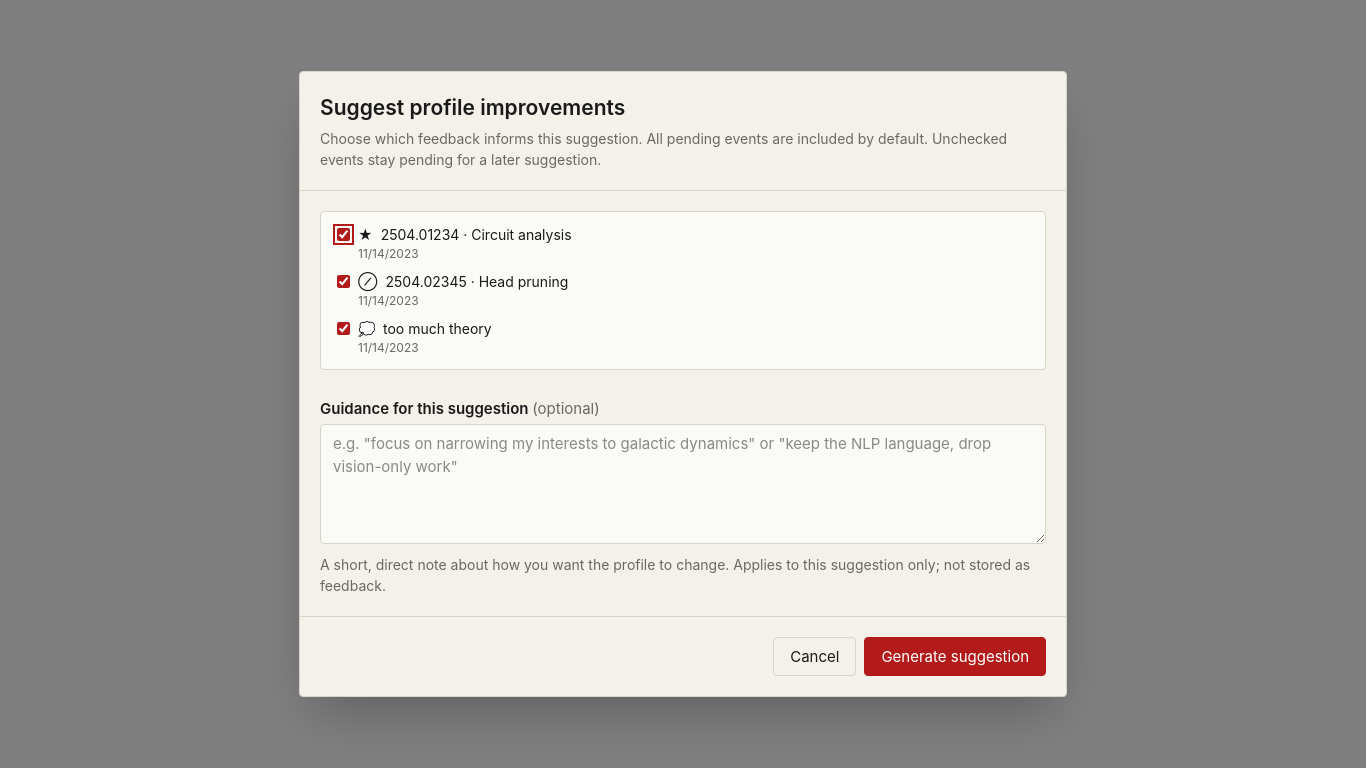
it: SuggestDialog — selection state › disables Generate when all items are unchecked
Click the checkbox labelled "★ 2504.01234 · Circuit analysis 11/14/2023" at {"x": 344, "y": 234}, box [337,228,350,240]
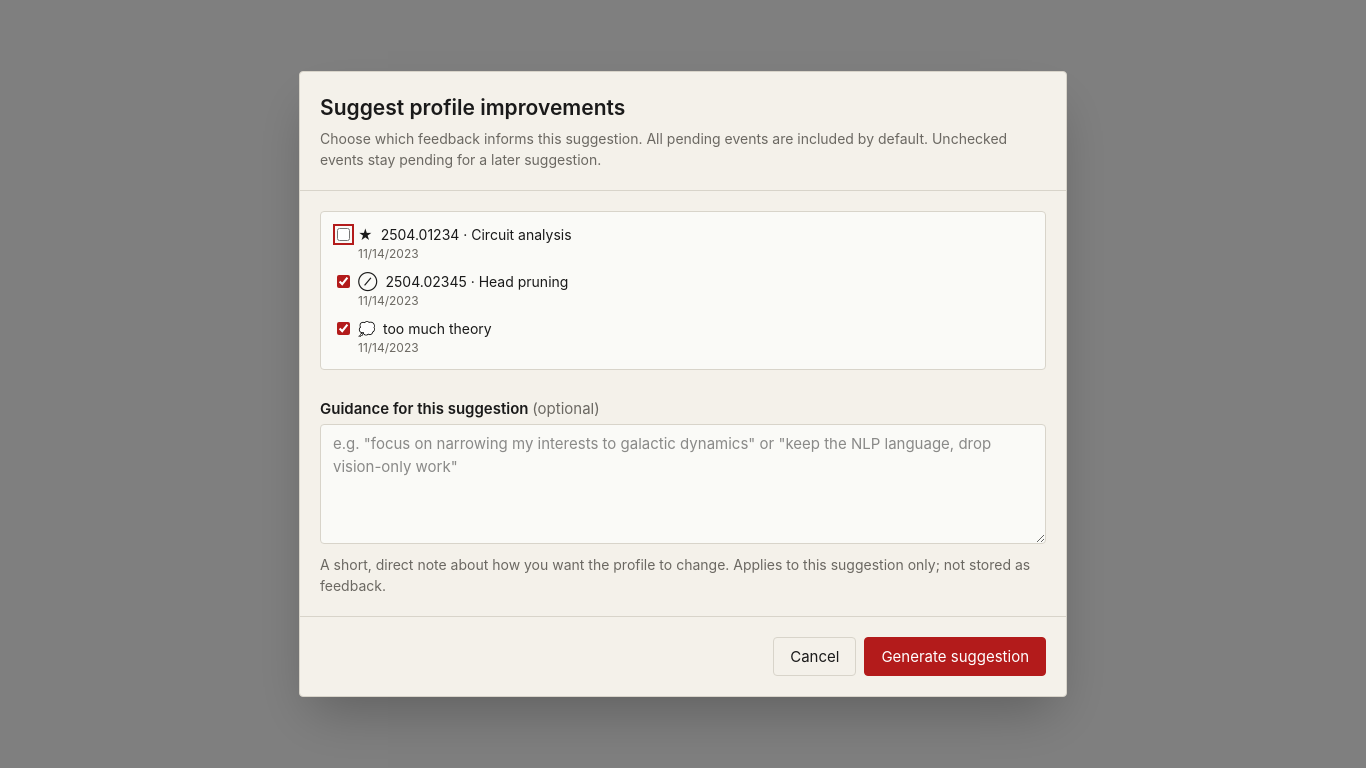
Click the checkbox labelled "⊘ 2504.02345 · Head pruning 11/14/2023" at {"x": 344, "y": 281}, box [337,274,350,288]
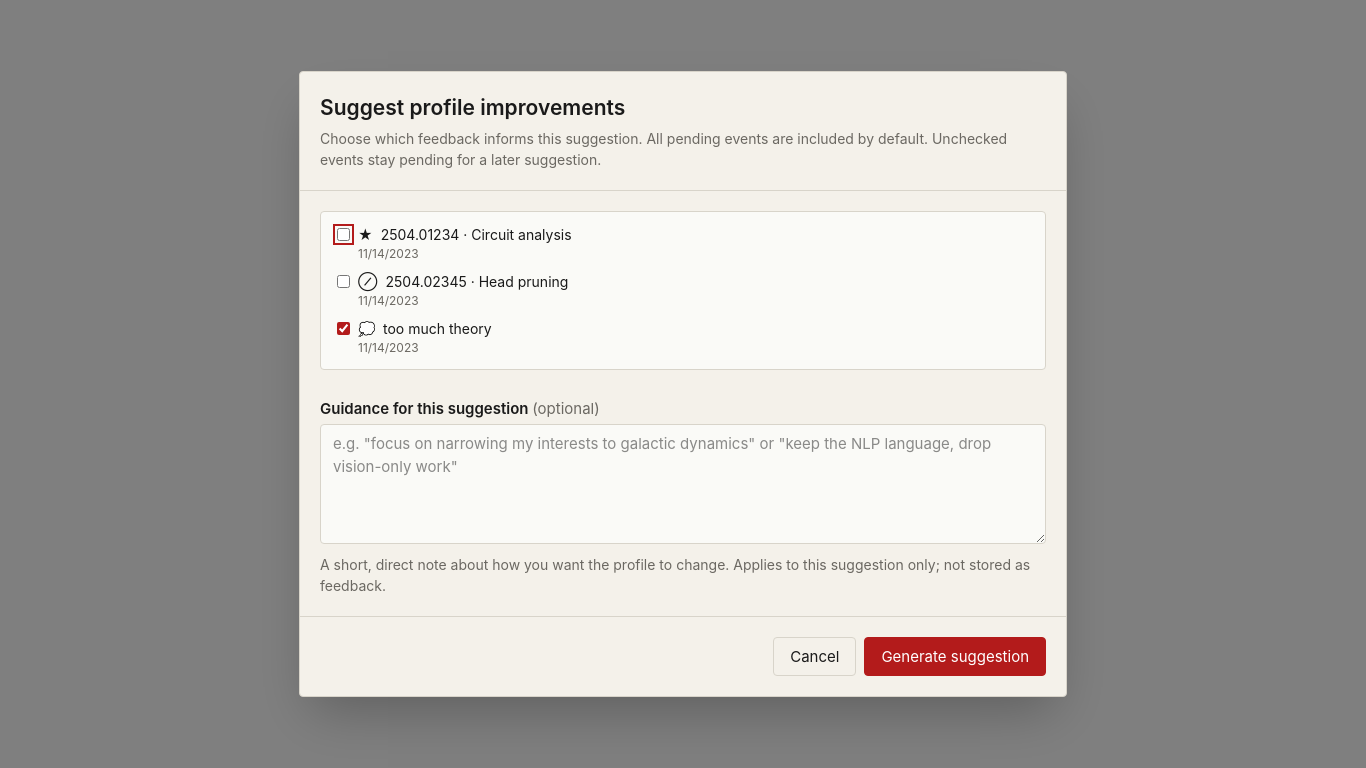
Click the checkbox labelled "💭 too much theory 11/14/2023" at {"x": 344, "y": 328}, box [337,322,350,334]
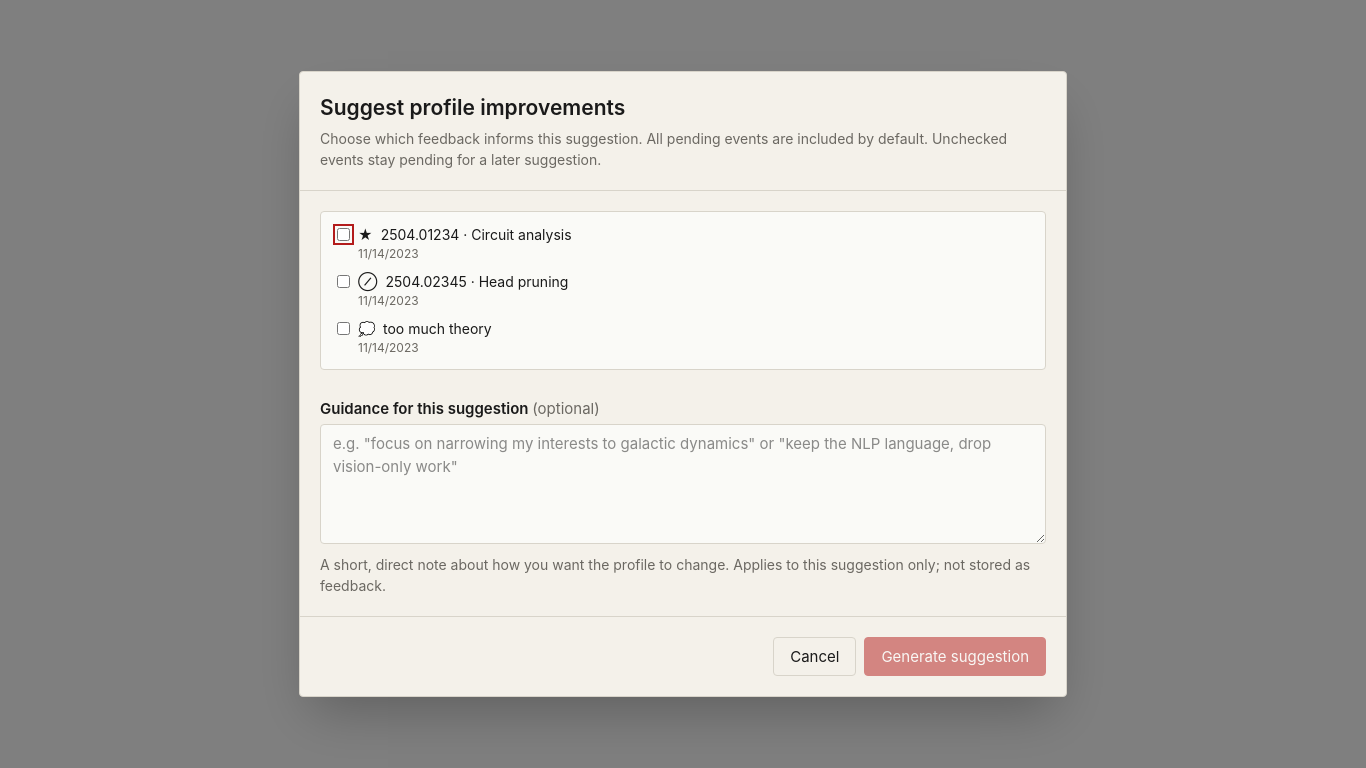
Expected: the button "Generate suggestion" is disabled, [864,637,1046,676]
